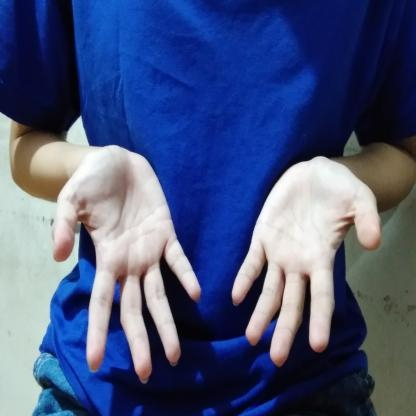what: (39, 138, 387, 388)
